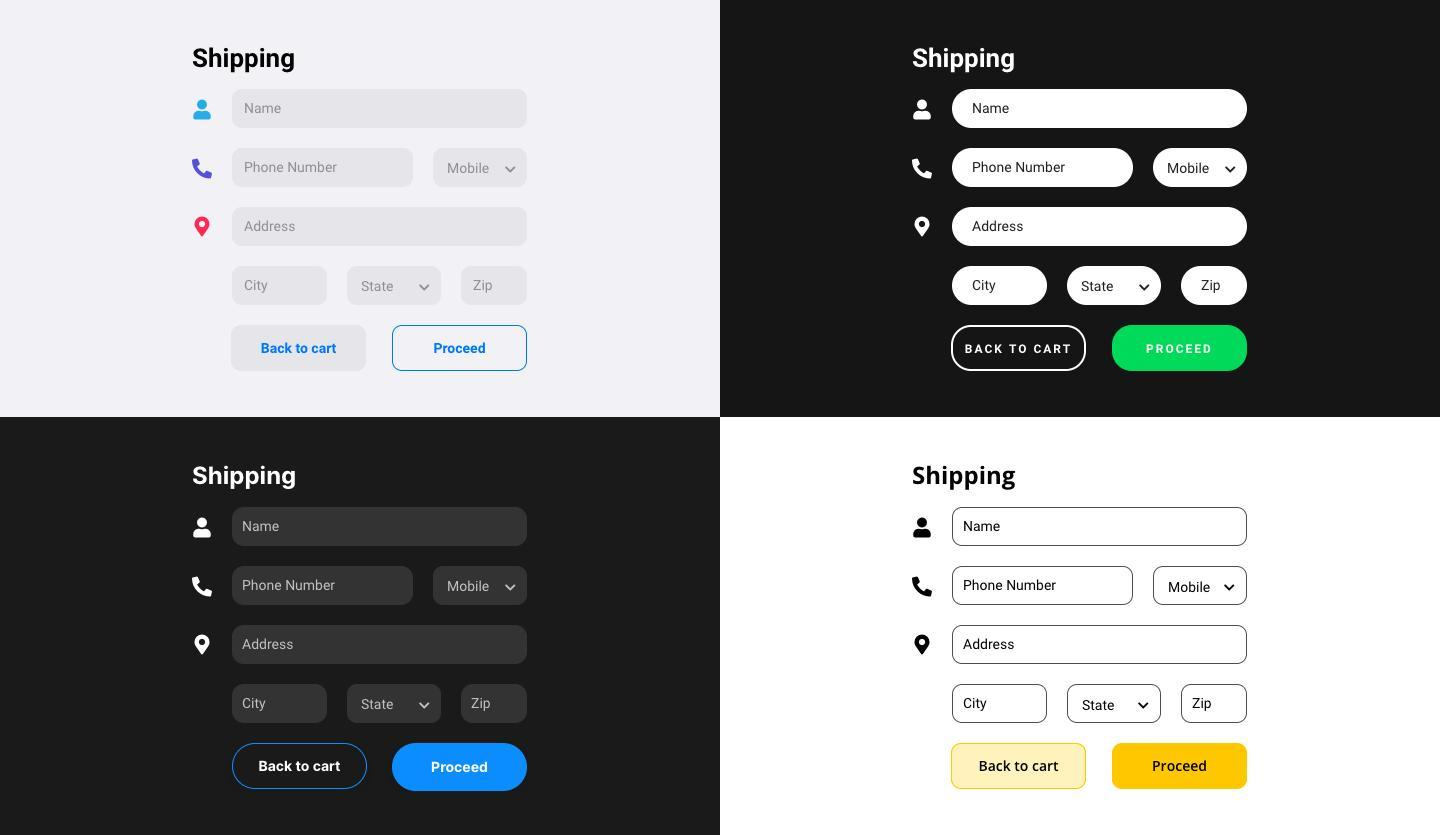button: (393, 324, 530, 374), (233, 324, 369, 374), (393, 744, 532, 792), (951, 743, 1088, 791), (1113, 743, 1247, 791), (954, 326, 1086, 373), (233, 744, 368, 789), (1115, 327, 1249, 372)
dropdown: (1154, 565, 1247, 608), (435, 147, 527, 190), (1067, 267, 1162, 307), (347, 267, 443, 306), (1067, 684, 1164, 722), (351, 685, 444, 723), (438, 564, 525, 604), (1155, 150, 1249, 187)
icon: (191, 154, 218, 186), (191, 97, 217, 127), (190, 213, 215, 239), (190, 575, 215, 599), (911, 574, 934, 600), (193, 515, 214, 542), (914, 631, 934, 659), (913, 157, 934, 183), (912, 213, 930, 239), (913, 520, 933, 541), (914, 101, 932, 119), (194, 635, 209, 656)
input: (235, 623, 532, 670), (228, 205, 527, 250), (948, 207, 1249, 250), (951, 505, 1247, 548), (233, 91, 527, 133), (955, 625, 1247, 666), (953, 90, 1252, 129), (237, 510, 524, 550), (227, 147, 415, 188), (233, 567, 413, 609), (953, 150, 1135, 190), (953, 568, 1135, 605), (948, 267, 1050, 307), (233, 265, 327, 306), (233, 685, 330, 723), (957, 684, 1042, 721), (1180, 267, 1247, 312), (1177, 684, 1249, 725), (461, 270, 527, 310), (461, 684, 530, 722)
label: (190, 458, 304, 495), (903, 43, 1023, 77), (903, 460, 1015, 495), (187, 45, 302, 73)
